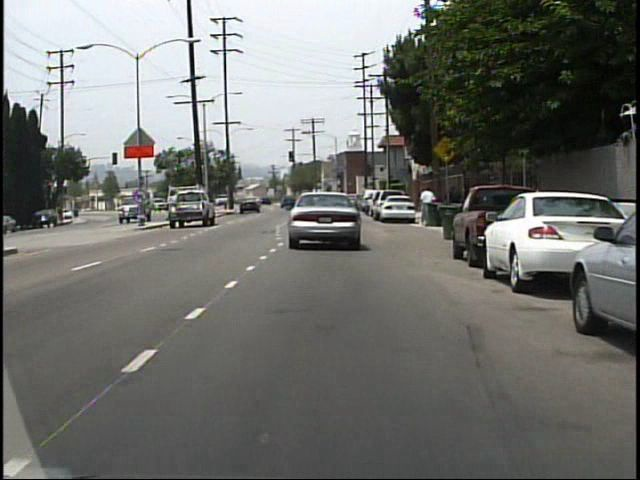person: (419, 186, 436, 206)
